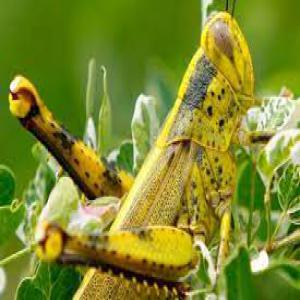locust: (72, 5, 263, 300)
